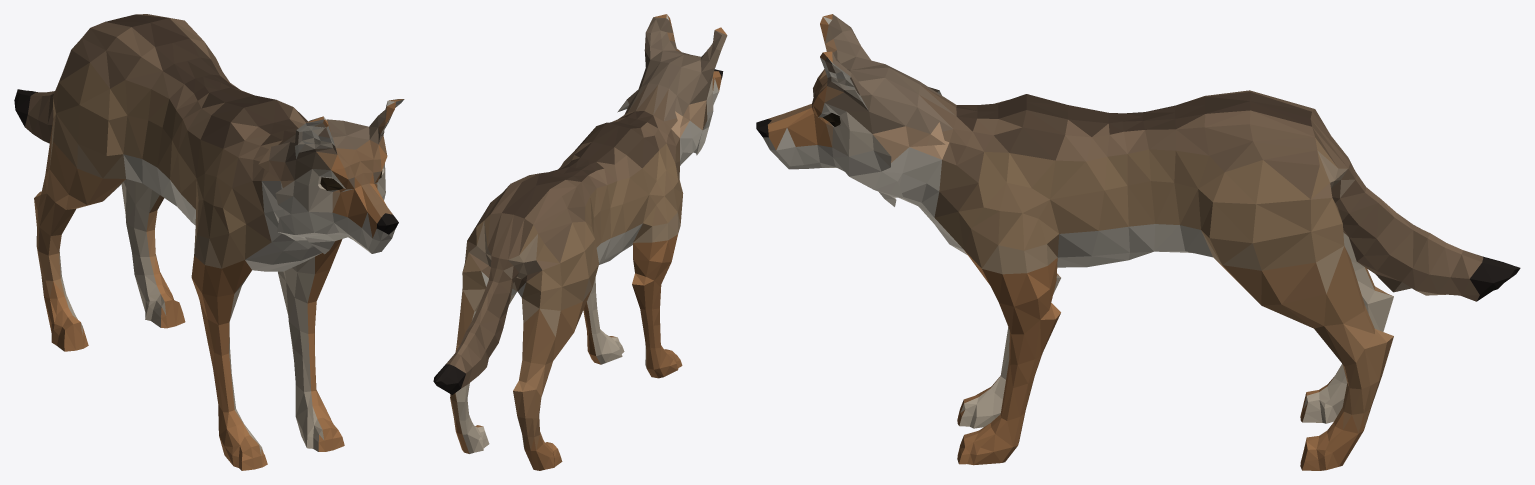
File: coyote.glb
3 renders of one model, left to right at view 1: azimuth 30°, elevation 25°; view 2: azimuth 150°, elevation 25°; view 3: azimuth 270°, elevation 25°, orthographic. The views are drawn at different scales.
Visible parts, largest first — view 1: lod0; view 2: lod0; view 3: lod0.
Part boxes in pixels (x1,y1,x2,y2): lod0: (14, 14, 404, 470); lod0: (433, 14, 727, 470); lod0: (756, 14, 1520, 470).
Size of what is drawn, in the model's own units: 0.2603 by 0.6954 by 1.18.
